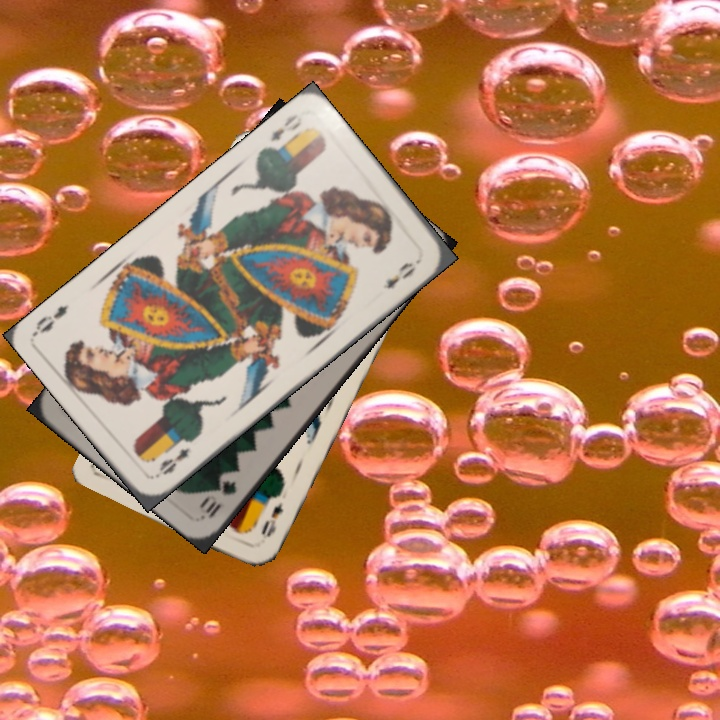EO: (266, 109, 305, 145), (154, 443, 192, 478), (257, 497, 287, 540)
G10: (197, 475, 239, 522)
